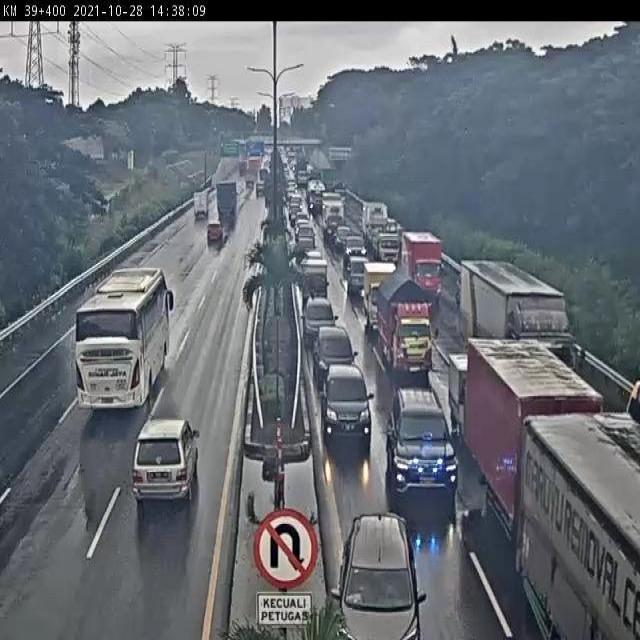big bus: (67, 268, 169, 425)
big truck: (460, 331, 602, 537), (524, 414, 640, 640), (458, 252, 592, 400), (377, 281, 436, 392), (404, 228, 451, 304), (363, 259, 405, 329), (360, 206, 407, 266), (215, 180, 244, 220), (191, 188, 214, 219)
car: (323, 517, 414, 640), (119, 415, 203, 525), (392, 385, 460, 515), (320, 359, 371, 452), (319, 325, 358, 408), (305, 295, 339, 341), (348, 257, 383, 299), (301, 257, 332, 299), (343, 238, 366, 270), (202, 216, 222, 251)
small truck: (445, 347, 497, 424)
